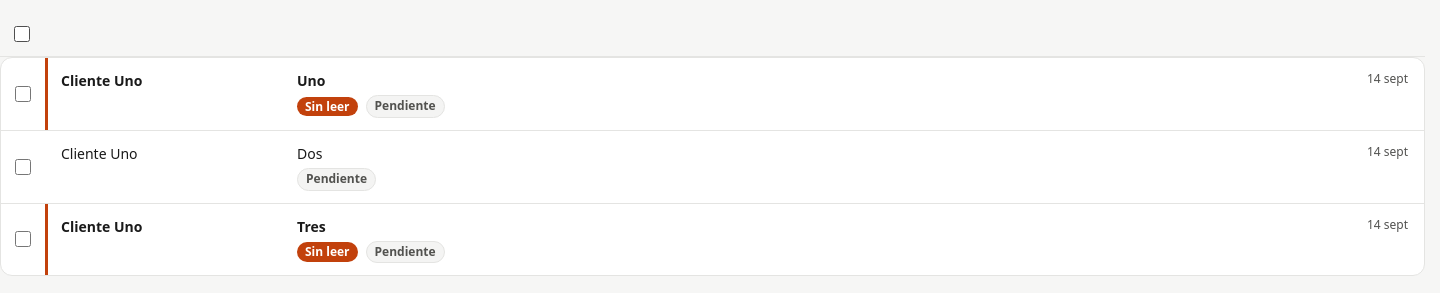
Test case: la casilla de arriba › queda a medias cuando hay algunas, y llena cuando están todas
The image size is (1440, 293).
Step 1. Click the 2nd checkbox → x=23, y=94, box [15, 86, 31, 102]
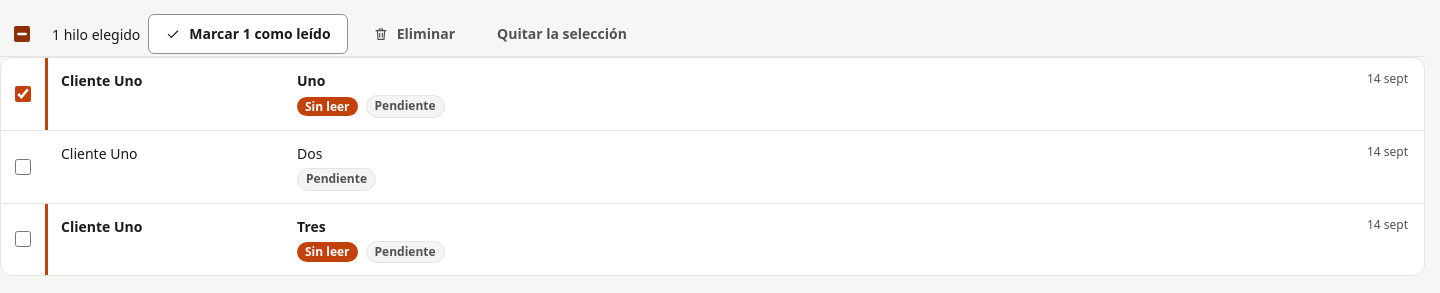
Expected: the checkbox named "Elegir todos los hilos de esta página" next to "1 hilo elegido" is not checked, [14, 26, 30, 42]
Step 2. Click the checkbox in the row of "Dos" → x=23, y=167, box [15, 159, 31, 175]
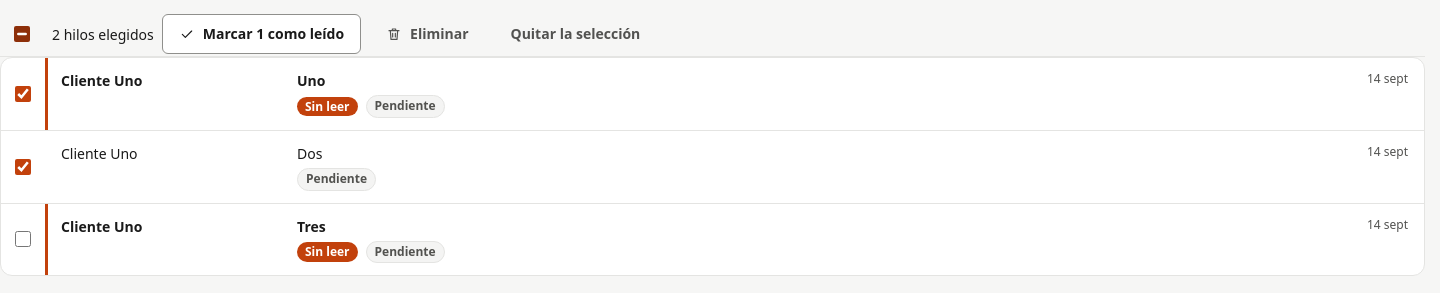
Step 3. Click the checkbox in the row of "Tres" → x=23, y=240, box [15, 232, 31, 248]
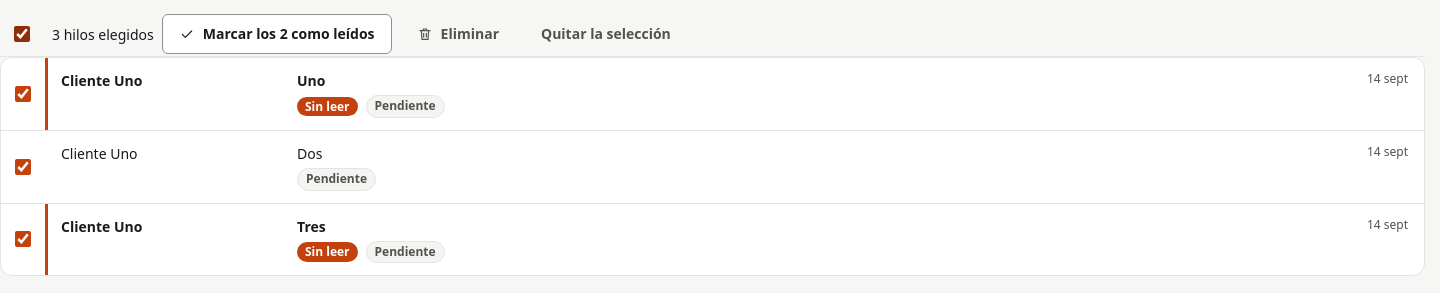
Expected: the checkbox named "Elegir todos los hilos de esta página" next to "3 hilos elegidos" is checked, [14, 26, 30, 42]
